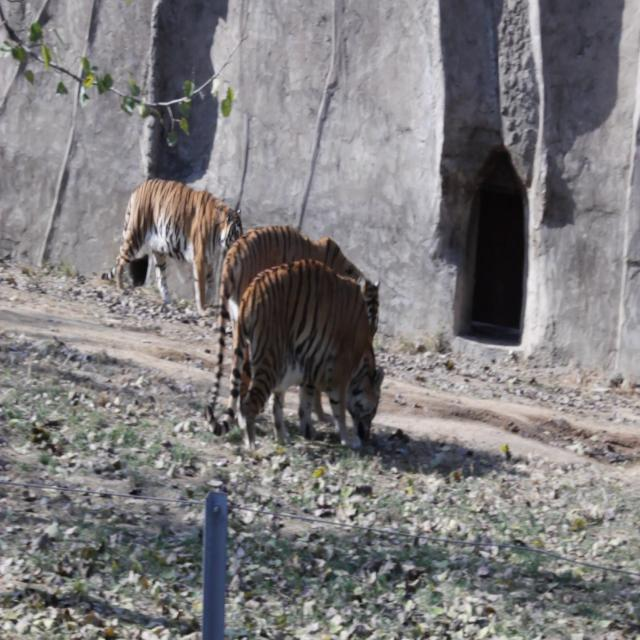Tiger: (237, 259, 386, 456), (93, 166, 244, 318), (215, 212, 388, 336)
